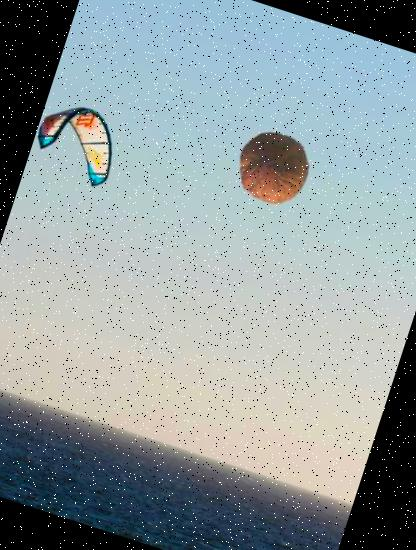Walnut: (227, 122, 320, 214)
